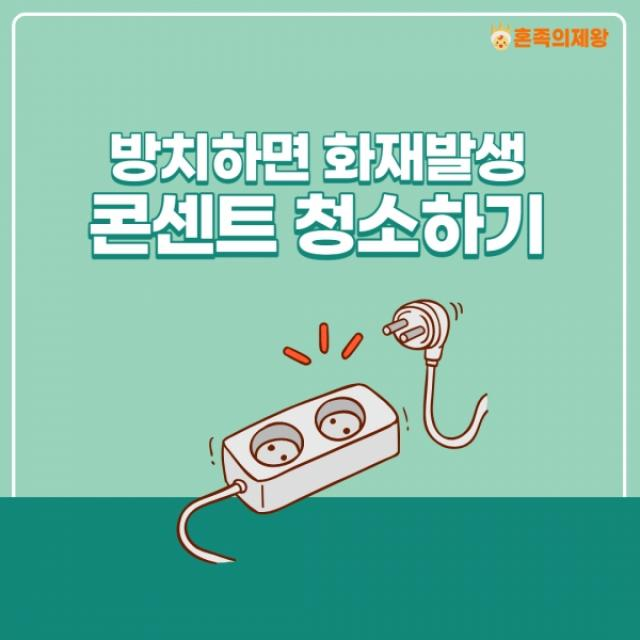typeb: (208, 385, 424, 526)
